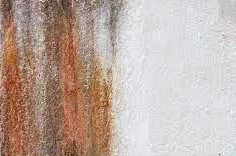Corrosion: (1, 1, 123, 156)
